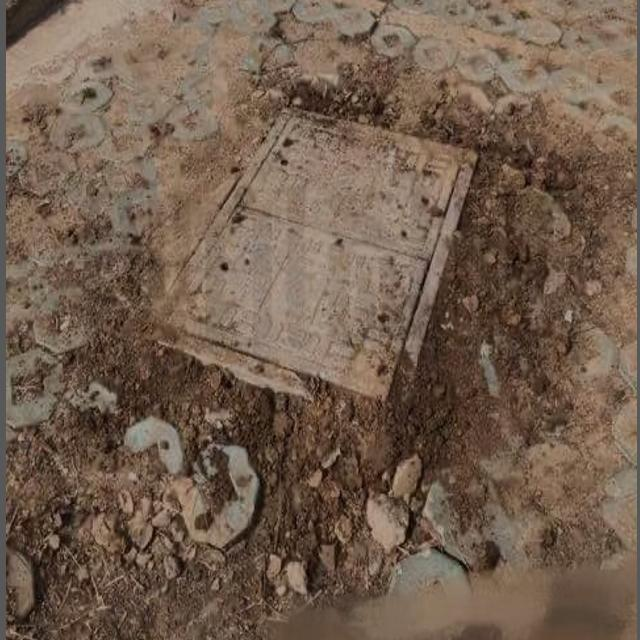circle: (122, 98, 507, 457)
